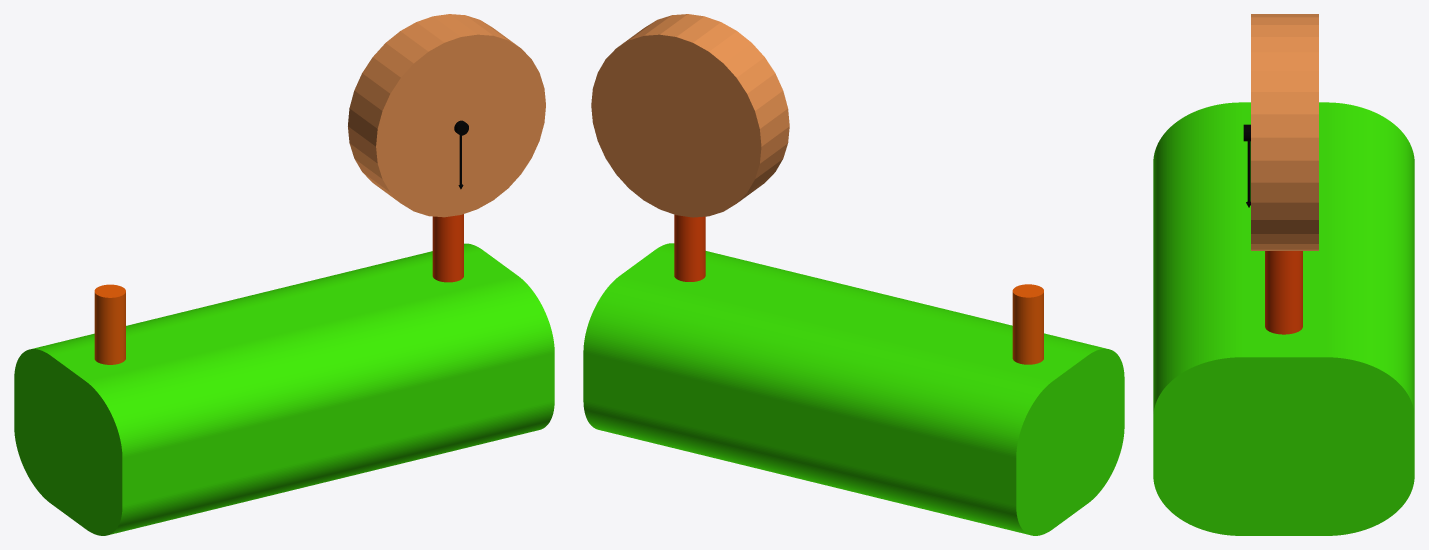
The model's file is appearence.gltf.
3 renders of one model, left to right at view 1: azimuth 30°, elevation 25°; view 2: azimuth 150°, elevation 25°; view 3: azimuth 270°, elevation 25°, orthographic. The views are drawn at different scales.
Parts seen in each view (by area): view 1: Cube.001, Cylinder, Cylinder.004, Cylinder.003; view 2: Cube.001, Cylinder, Cylinder.004, Cylinder.003; view 3: Cube.001, Cylinder, Cylinder.003.
Part boxes in pixels (x1,y1,x2,y2): Cube.001: [14, 243, 554, 535]; Cylinder: [348, 14, 545, 217]; Cylinder.004: [94, 284, 125, 364]; Cylinder.003: [432, 214, 463, 282]; Cube.001: [583, 243, 1124, 535]; Cylinder: [591, 14, 789, 217]; Cylinder.004: [1012, 284, 1043, 364]; Cylinder.003: [674, 214, 705, 281]; Cube.001: [1153, 102, 1414, 535]; Cylinder: [1251, 14, 1318, 250]; Cylinder.003: [1265, 251, 1302, 334].
Bounding box in the file's own units: 2.76 × 2.25 × 1.11.
